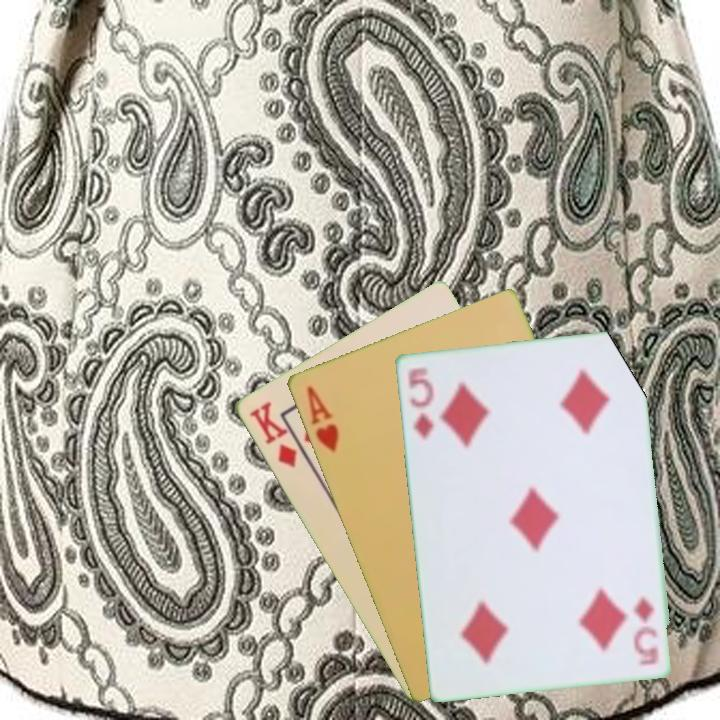5d: (404, 363, 436, 443), (630, 592, 661, 669)
Ah: (302, 382, 341, 455)
Kd: (245, 397, 300, 471)
